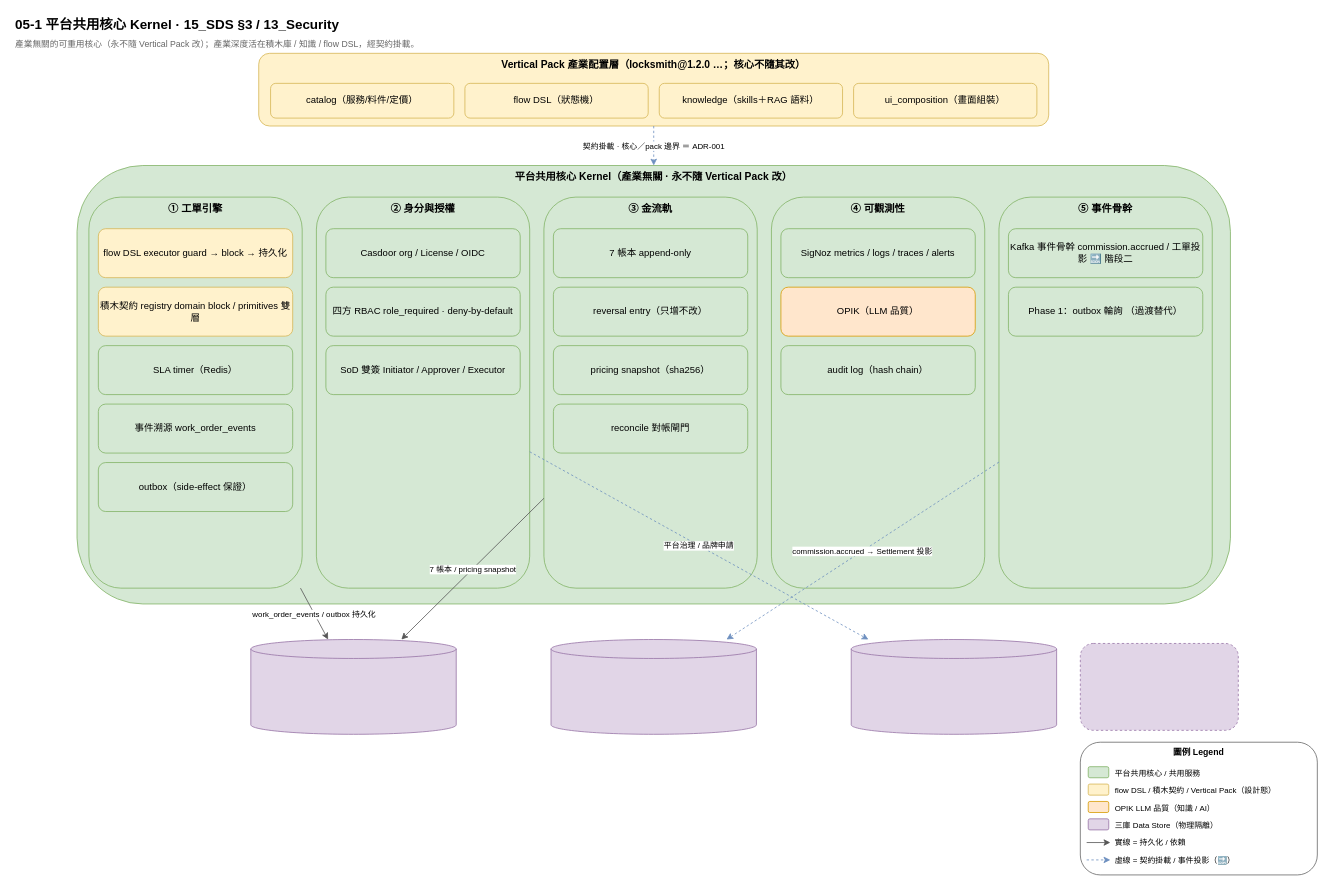
This 1331x889 diagram has some shape labels left out. The shapes that lost their labels are listed below. From the top down, each one's centre as x and y in pixels, then its label:
At point 353,686: "品牌庫 pgvector 業務 ＋ 唯一事實語料".
At point 653,686: "技師庫 lock_tech 技師身分域".
At point 953,686: "平台庫 platform-db 管理員 / 品牌申請".
At point 1159,686: "三庫物理隔離 ＝ 租戶模型 ADR-020 （不跨庫 FK · 跨系統 ref）".
